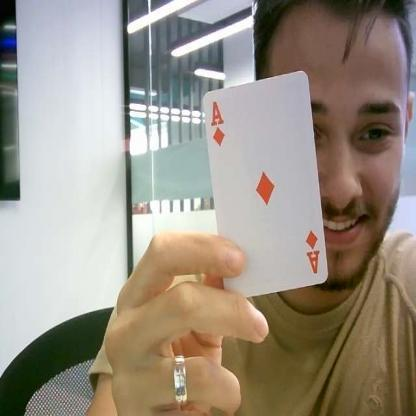AD: (303, 228, 320, 278), (210, 98, 226, 146)
